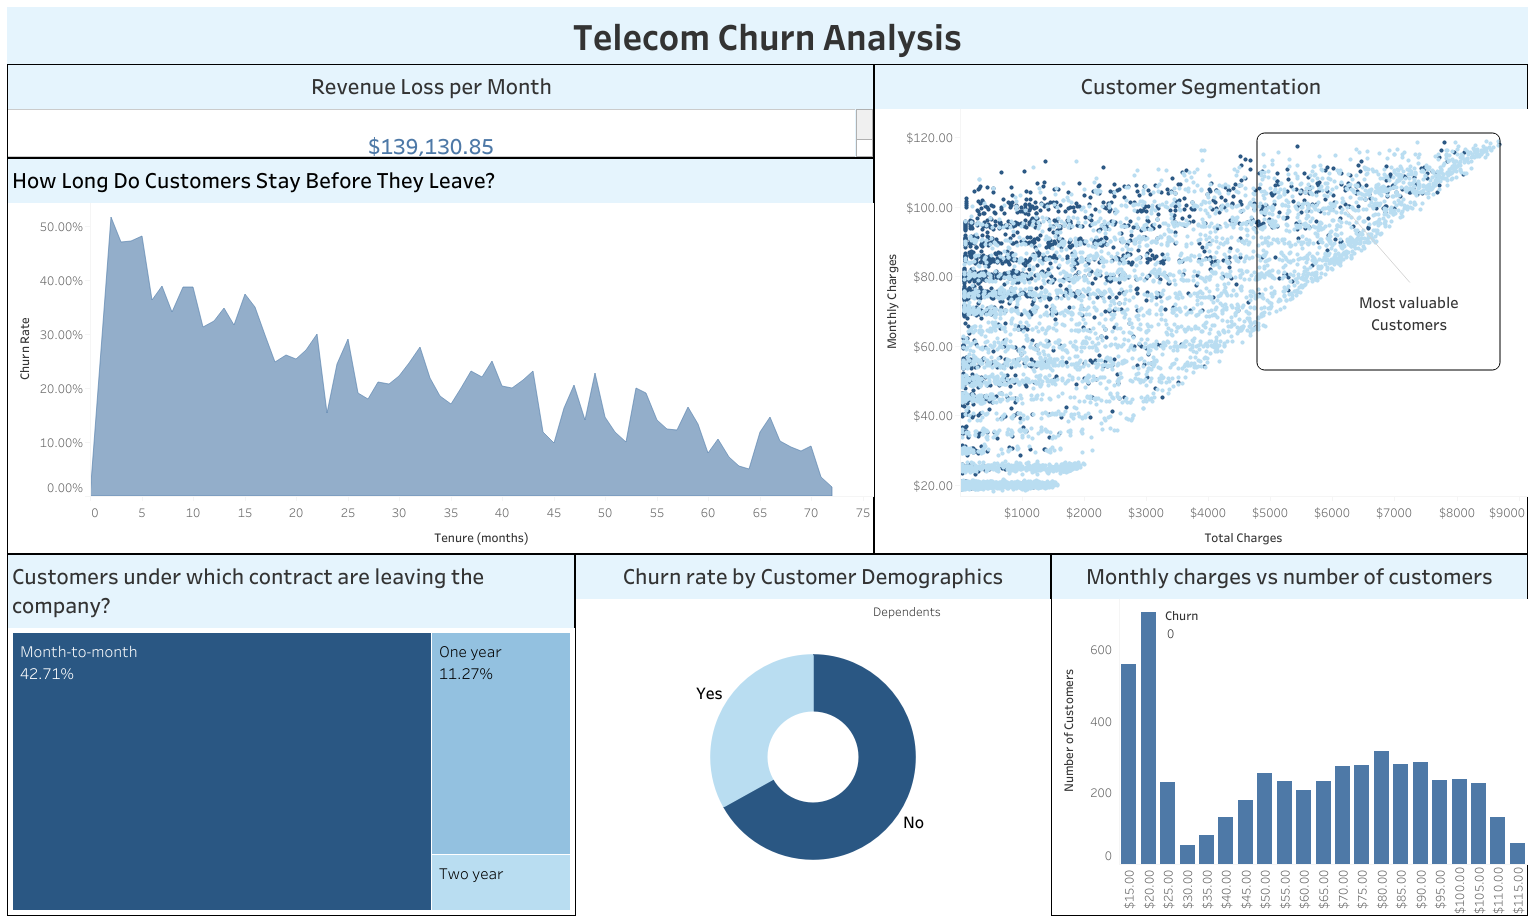

Layout of this report page (visuals, bound fields, positions):
{"tool":"tableau","page":{"name":"Telecom Churn Analysis","canvas":[1000,1000],"units":"permille","ordinal":0},"visuals":[{"type":"title","box":[4.1,6.8,991.8,54.7]},{"type":"worksheet","title":"Revenue Loss per Month","mark":"Automatic","cols":["Calculation_132293254725390337"],"box":[4.1,61.5,565.4,102.3]},{"type":"worksheet","title":"Customer Segmentation","mark":"Automatic","rows":["MonthlyCharges"],"cols":["TotalCharges"],"box":[569.5,61.5,426.4,535.5]},{"type":"worksheet","title":"How Long Do Customers Stay Before They Leave?","mark":"Area","rows":["Calculation_132293254726287362"],"cols":["tenure"],"box":[4.1,163.8,565.4,433.2]},{"type":"worksheet","title":"Customers under which contract are leaving the company?","mark":"Automatic","box":[4.1,597,370.4,396.2]},{"type":"worksheet","title":"Churn rate by Customer Demographics","mark":"Pie","rows":["Calculation_132293254750634000","Calculation_132293254750642194"],"box":[374.5,597,310.5,396.2]},{"type":"worksheet","title":"Monthly charges vs number of customers","mark":"Automatic","rows":["customerID"],"cols":["Monthly Charges (bin)"],"box":[685,597,310.9,396.2]},{"type":"parameter","param":"[Parameters].[Parameter 1]","box":[567.2,652.3,96.4,26.4]},{"type":"filter","title":"Monthly charges vs number of customers","param":"[federated.1b3umqt1as1o8111uzjnz1ykglcv].[none:Calculation_132293254725390337:ok","box":[758.9,655.3,101.3,50.8]}]}

Visuals, with their boxes on the dashboard's canvas, which has no fixed pixel size, in thousandths of its width and height (x1, y1, x2, y2). These are canvas units, not pixel positions in the 1534x922 screenshot, which may show the page scaled, cropped or inside an application window:
title: (4,7,996,62)
"Revenue Loss per Month" worksheet: (4,62,570,164)
"Customer Segmentation" worksheet: (570,62,996,597)
"How Long Do Customers Stay Before They Leave?" worksheet (Area marks): (4,164,570,597)
"Customers under which contract are leaving the company?" worksheet: (4,597,374,993)
"Churn rate by Customer Demographics" worksheet (Pie marks): (374,597,685,993)
"Monthly charges vs number of customers" worksheet: (685,597,996,993)
parameter: (567,652,664,679)
"Monthly charges vs number of customers" filter: (759,655,860,706)
